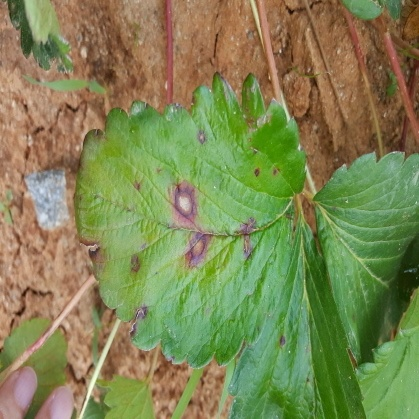Leaf_Spot: (111, 50, 346, 347), (0, 53, 313, 269), (52, 0, 301, 210)
